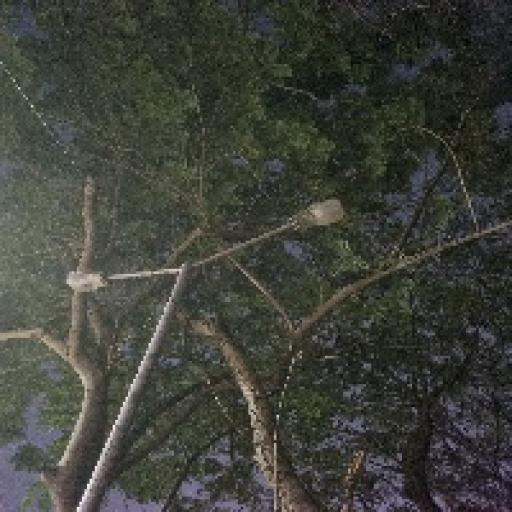Not Working: (277, 189, 354, 247), (54, 262, 116, 302)
